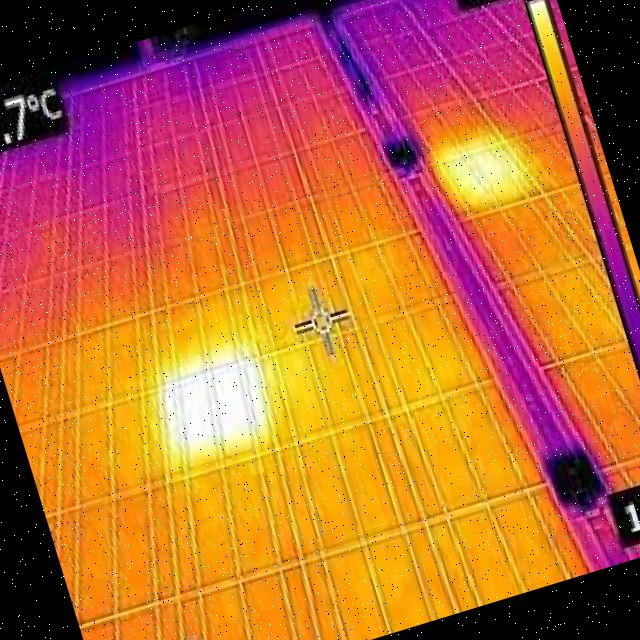Hotspot: (140, 332, 295, 482), (426, 110, 540, 228)
